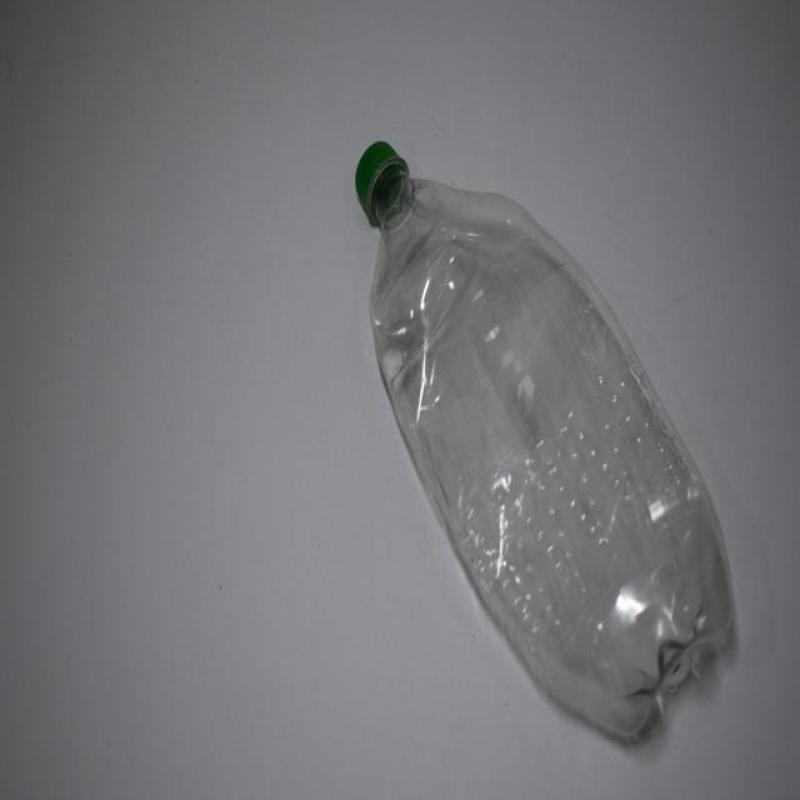botella: (353, 143, 736, 748)
